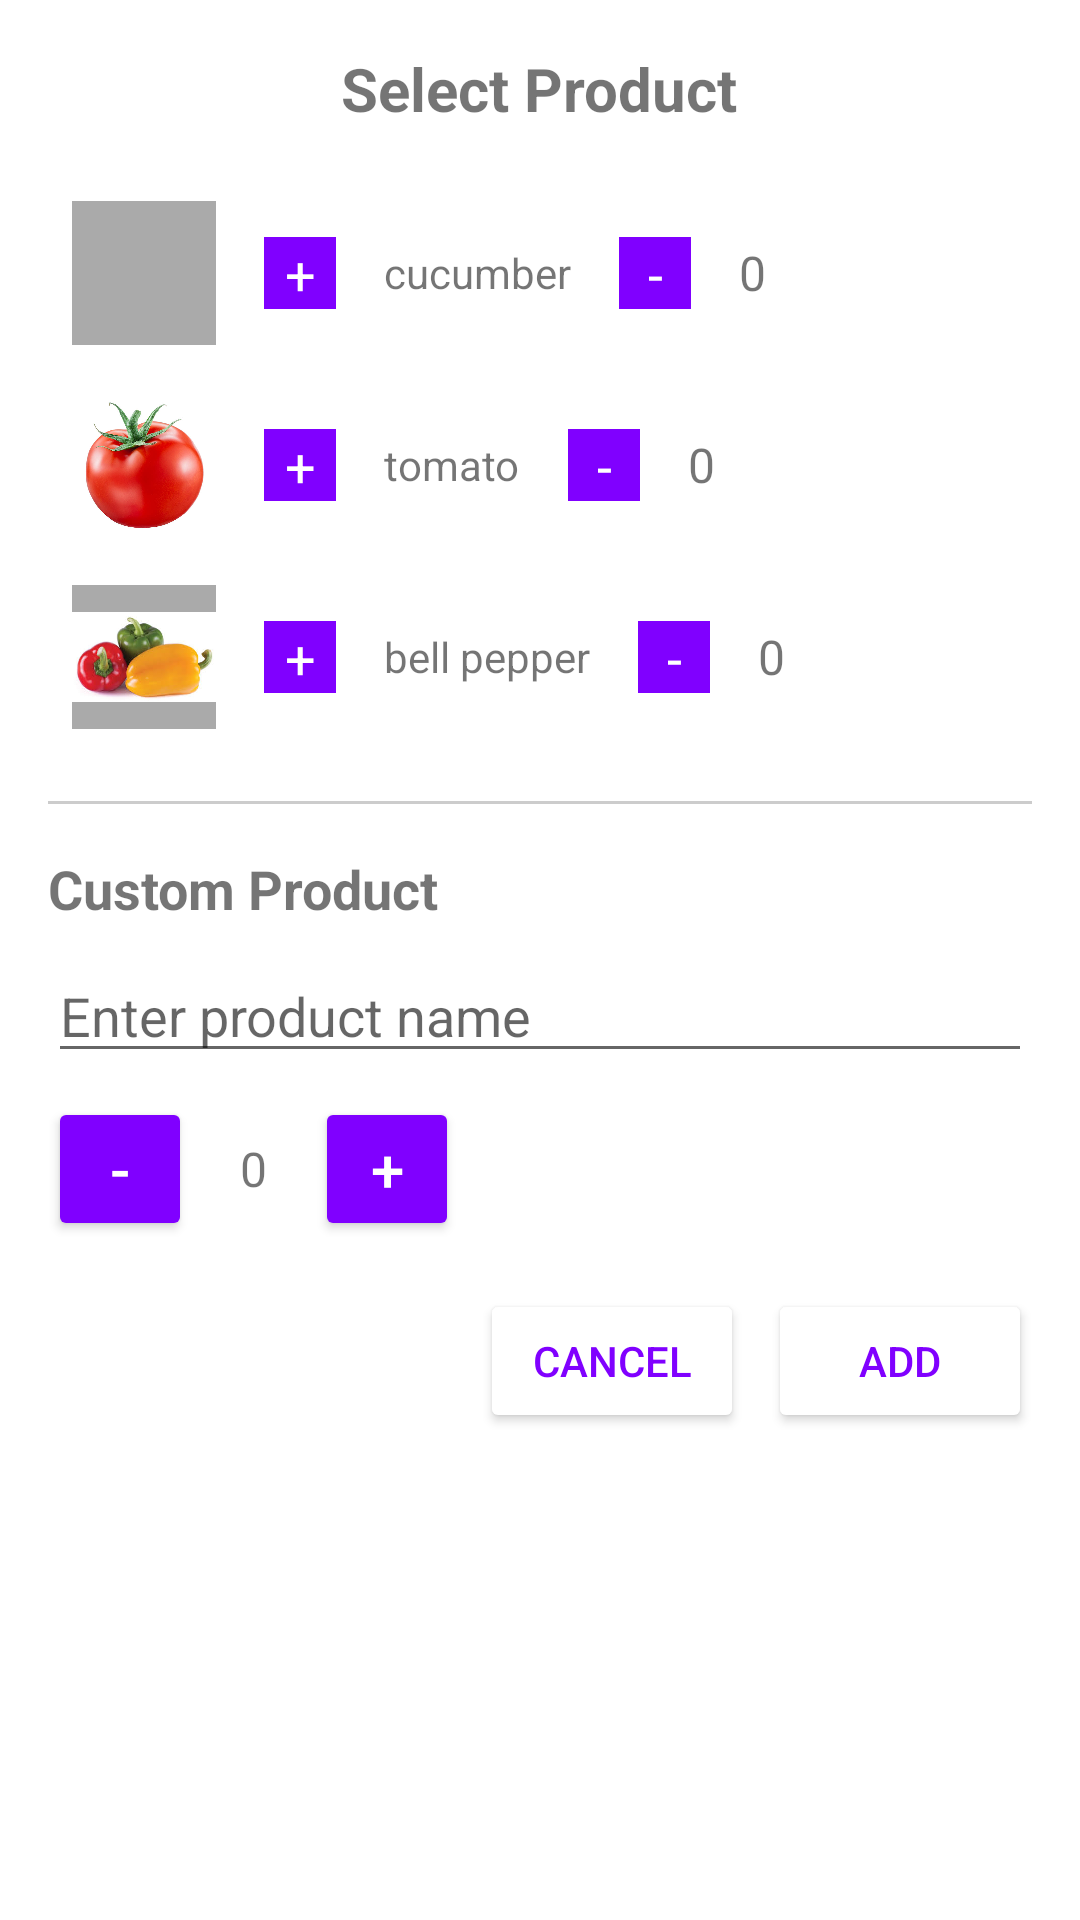

Point at icon controls on the screen. Image size 1080 x 1920, points as (x,y).
bell pepper: (144,657)
tomato: (145,465)
